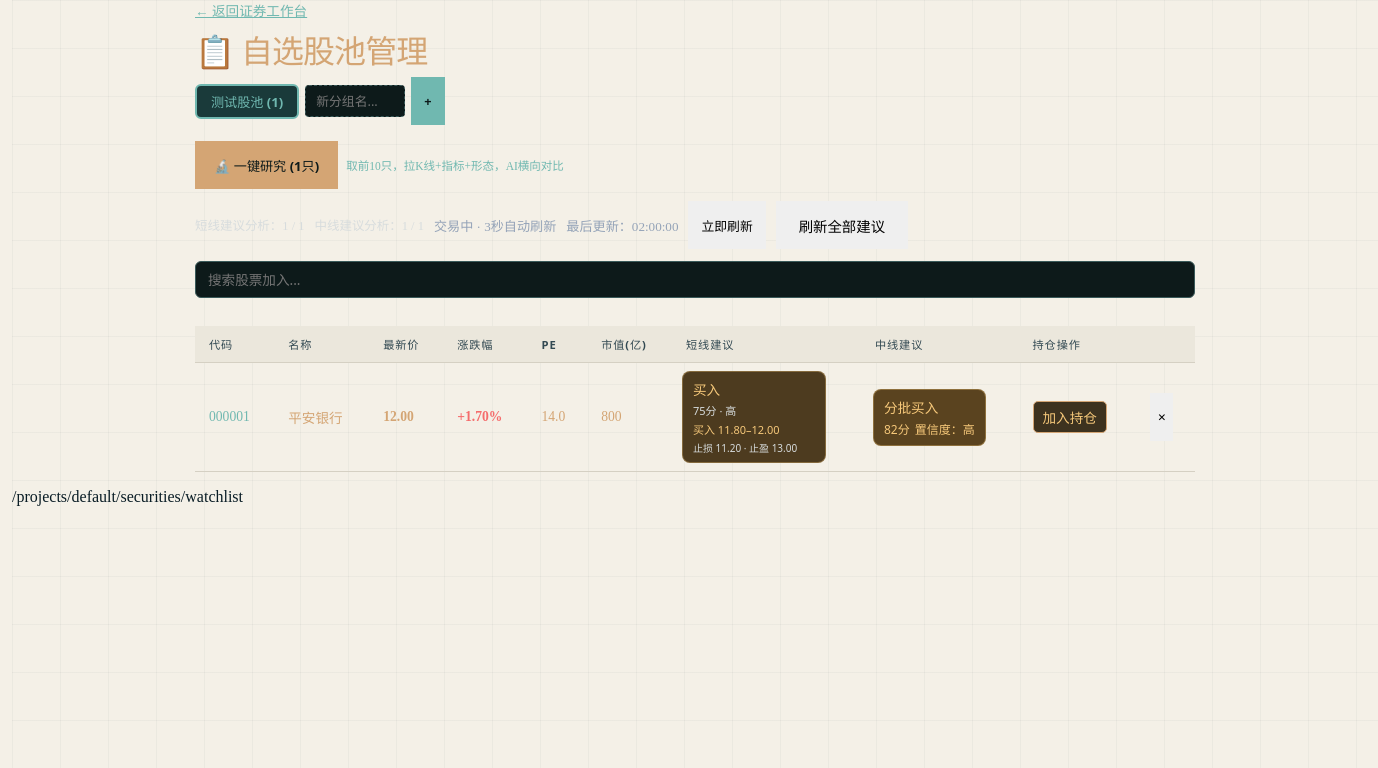
WatchlistPage buy advice integration › clicking the stock row still navigates to the original analysis route
Click the text "平安银行". click: coordinates (322, 417)
box: left=274, top=363, right=369, bottom=472
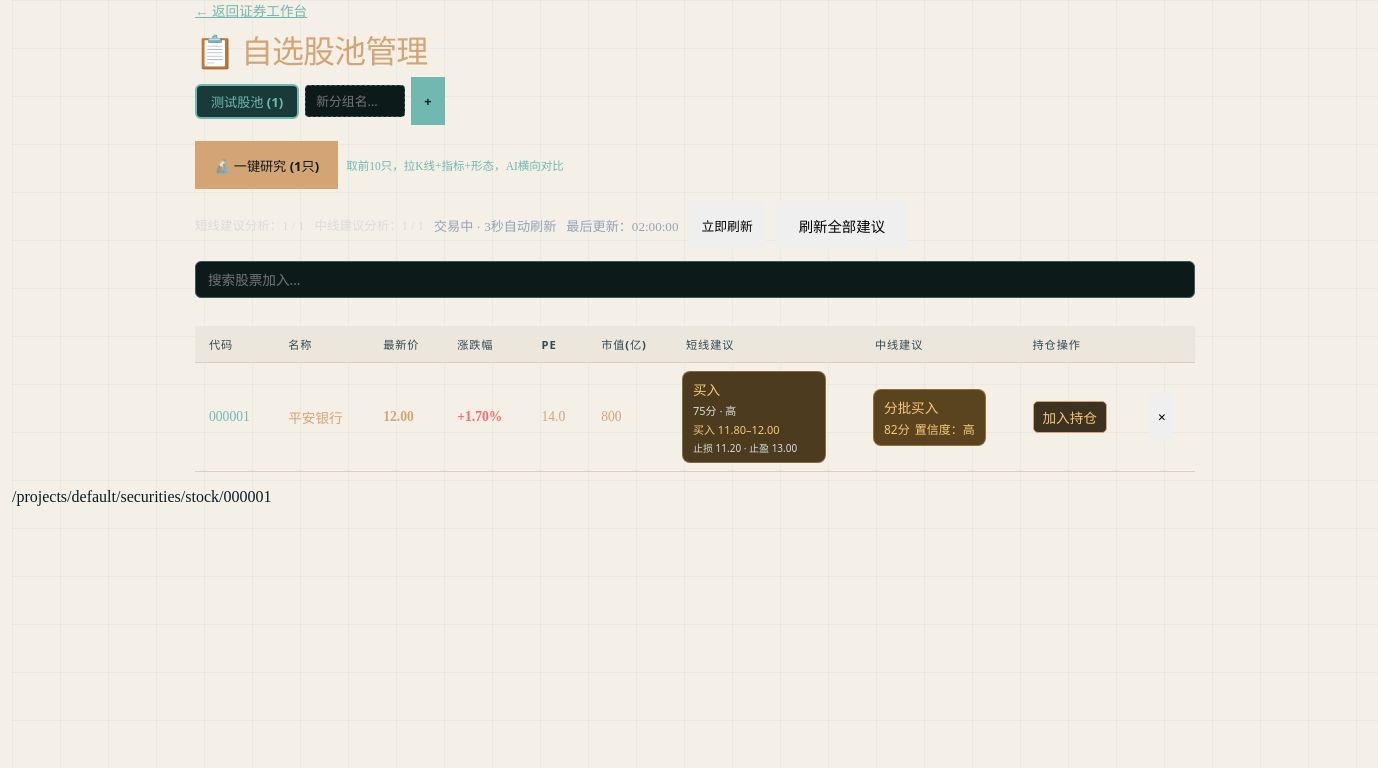
Now the text with test id "location" reads "/projects/default/securities/stock/000001", box left=12, top=488, right=272, bottom=505
